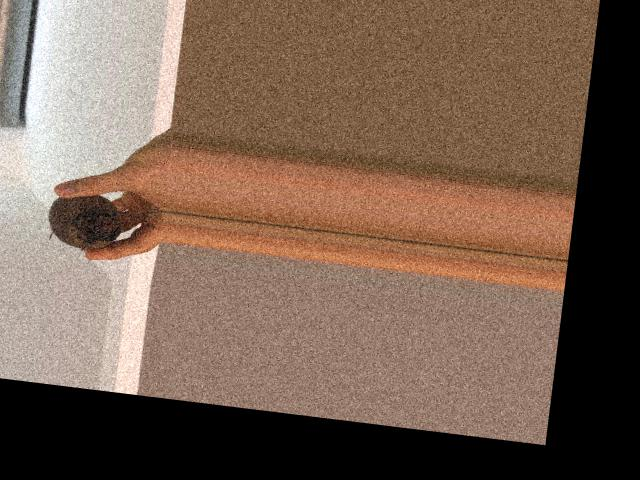beet: (43, 187, 167, 260)
